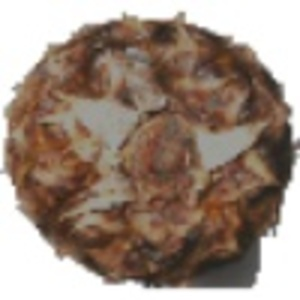abacaxi: (4, 8, 294, 283)
